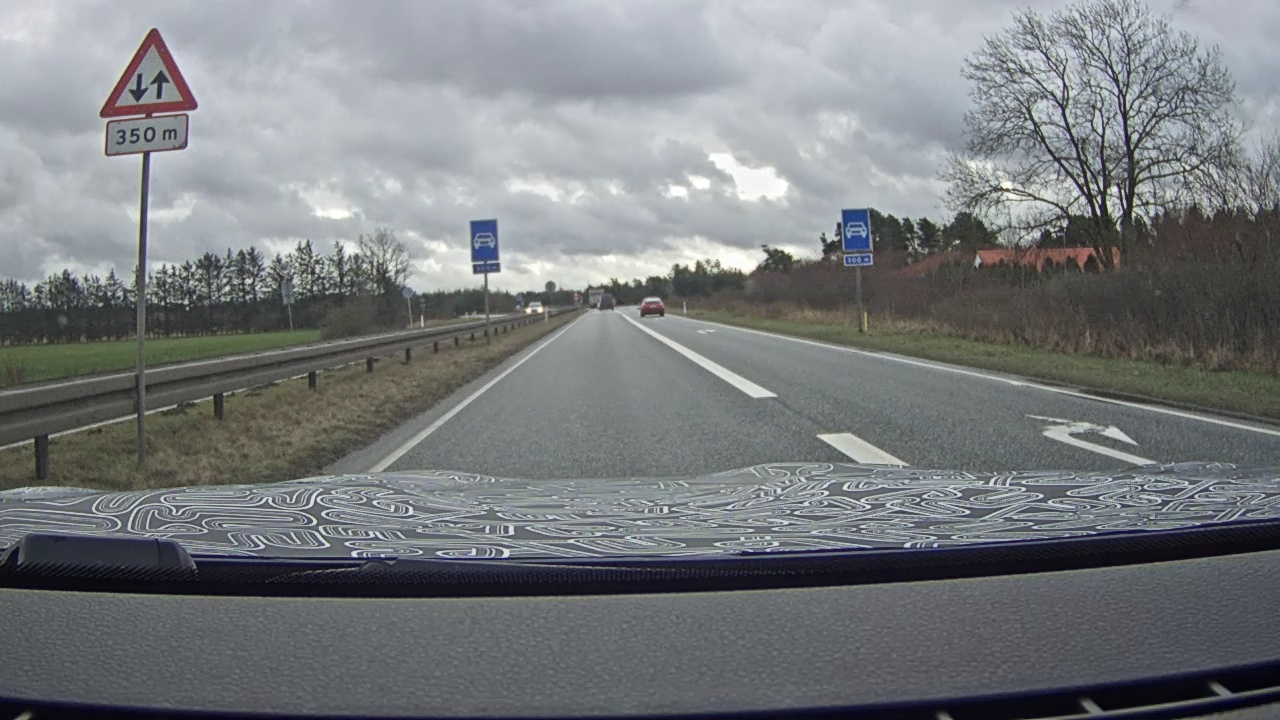Expressway_Begin: (468, 218, 501, 263), (840, 208, 873, 252)
